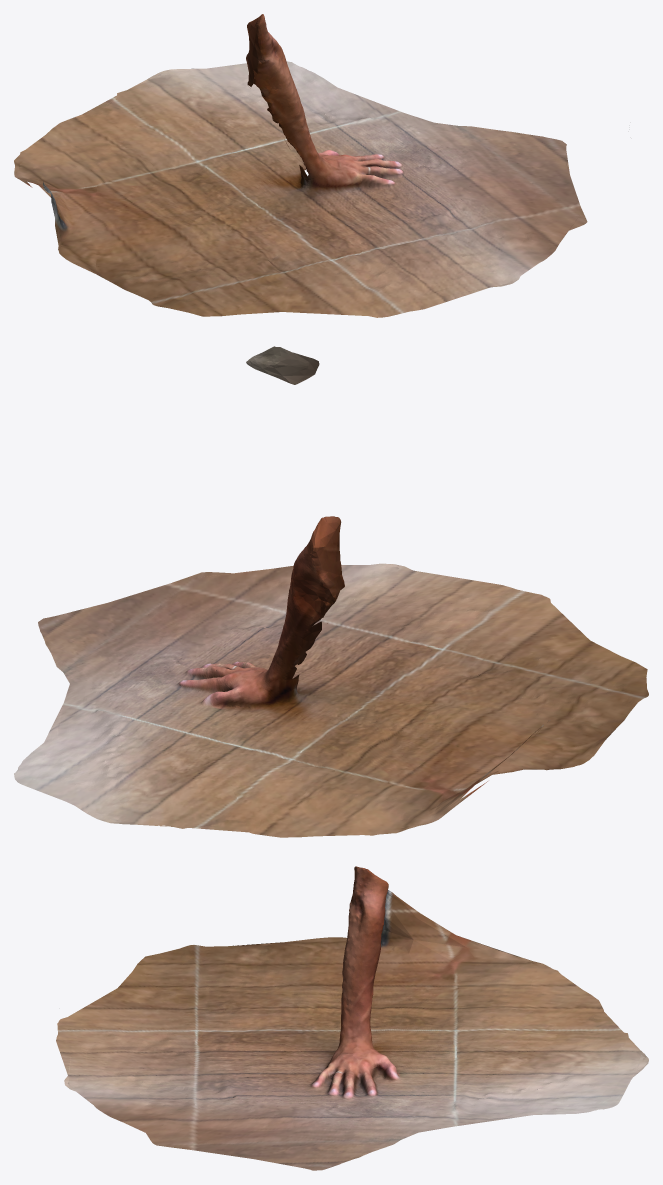
File: Scaniverse 2023-10-17 181730.glb
The picture shows the model from 3 angles, top to bottom: view 1: azimuth 30°, elevation 25°; view 2: azimuth 150°, elevation 25°; view 3: azimuth 270°, elevation 25°; orthographic projection. The views are drawn at different scales.
Visible parts, largest first — view 1: mesh; view 2: mesh; view 3: mesh.
Part boxes in pixels (<box>): mesh: <box>14,14,587,317</box>; mesh: <box>14,346,648,837</box>; mesh: <box>56,866,648,1170</box>.
Size of the model in its own units: 1.1 by 0.3848 by 1.27.
Materials: 1 (1 with a texture image).
